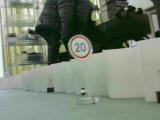speed_20: (66, 33, 95, 60)
